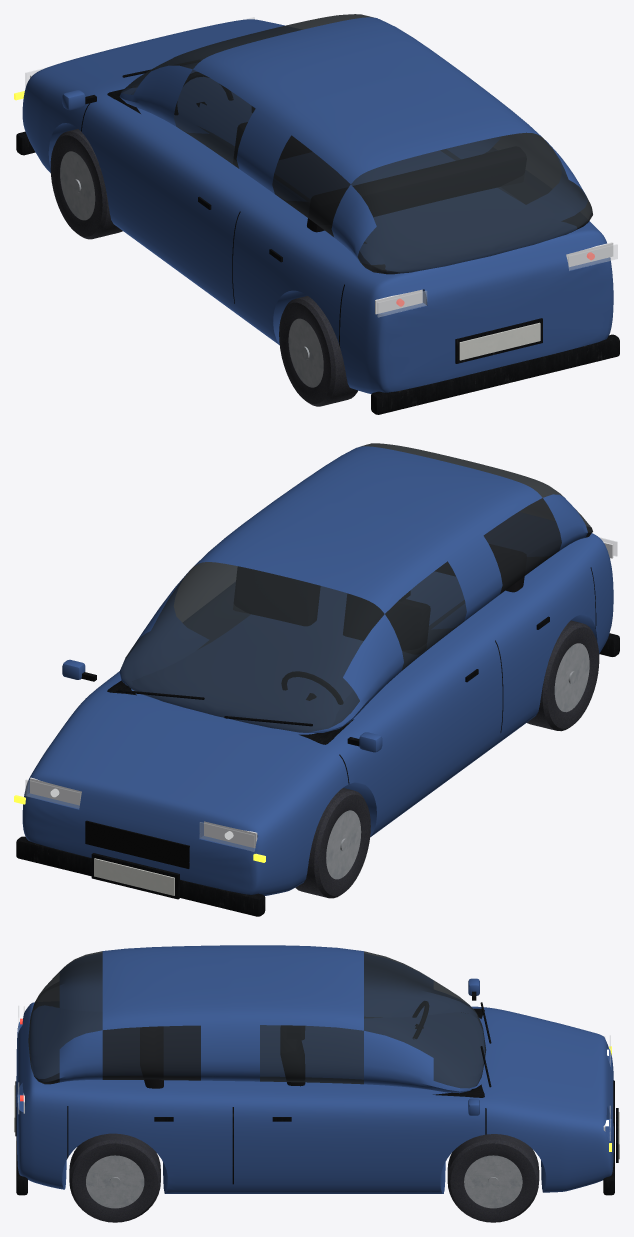
File: hatchback_blue.gltf
3 renders of one model, top to bottom at view 1: azimuth 30°, elevation 25°; view 2: azimuth 150°, elevation 25°; view 3: azimuth 270°, elevation 25°, orthographic. The views are drawn at different scales.
Parts seen in each view (by area): view 1: hatchback_blue; view 2: hatchback_blue; view 3: hatchback_blue.
Part boxes in pixels (box(x1,y1,x2,y2)): hatchback_blue: box(14, 14, 619, 414); hatchback_blue: box(14, 443, 619, 916); hatchback_blue: box(14, 945, 619, 1222).
Size of the model in its own units: 2.04 by 1.45 by 4.1.
Materials: 17 (8 with a texture image).
